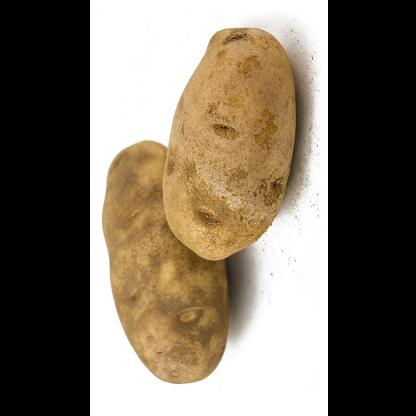potato: (159, 27, 294, 260), (100, 140, 228, 382)
